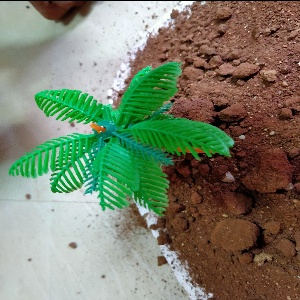plant: (19, 71, 228, 212)
